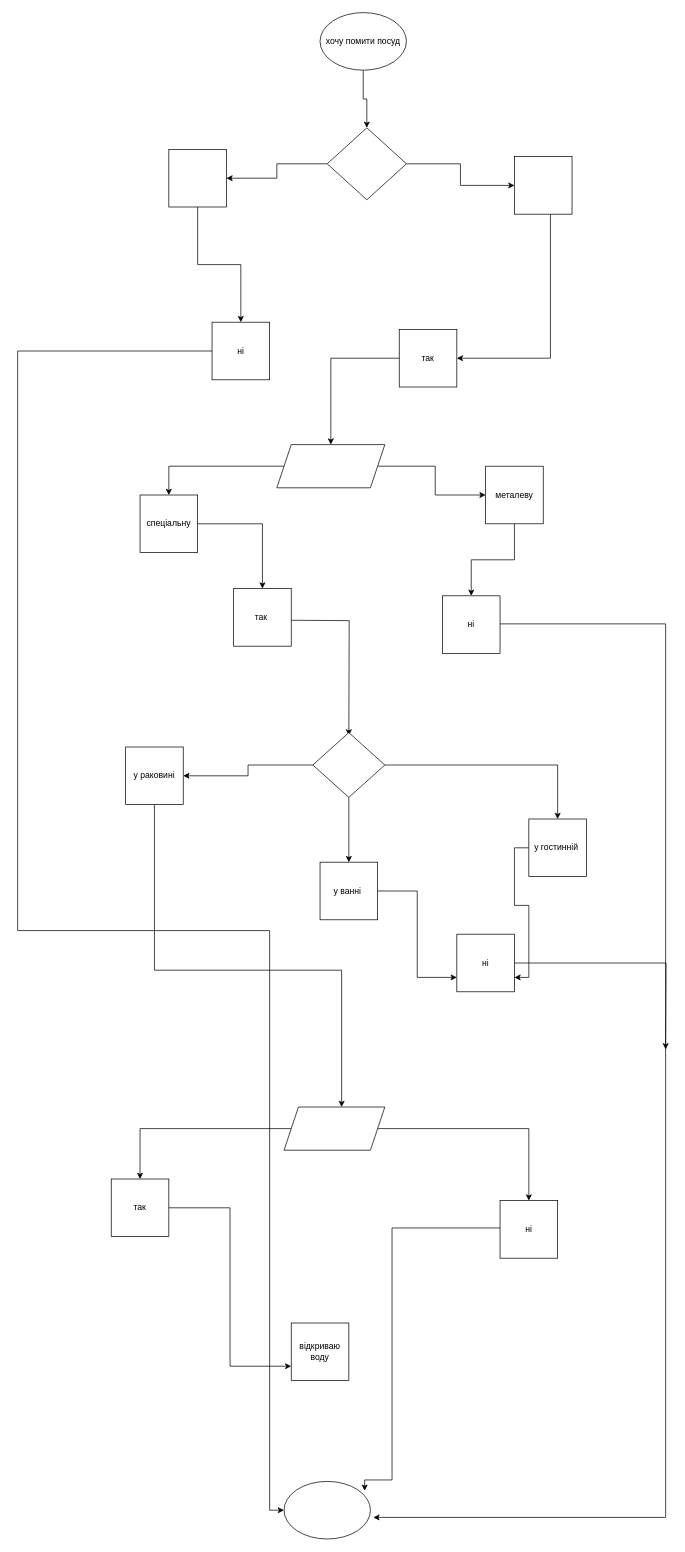
Image size: 685x1552. Some labels were removed from this diagram. The shapes that lost their labels are listed below. From the top down, each one's centre as x and y in pixels, then its label:
At [197,178]: "Wash and free".
At [366,163]: "який мийний засіб вибрати?".
At [543,185]: "Gala".
At [330,466]: "яку губку вибрати?".
At [348,764]: "де я буду мити цей посуд?".
At [334,1128]: "одягати рукавички?".
At [326,1510]: "мию посуд".
